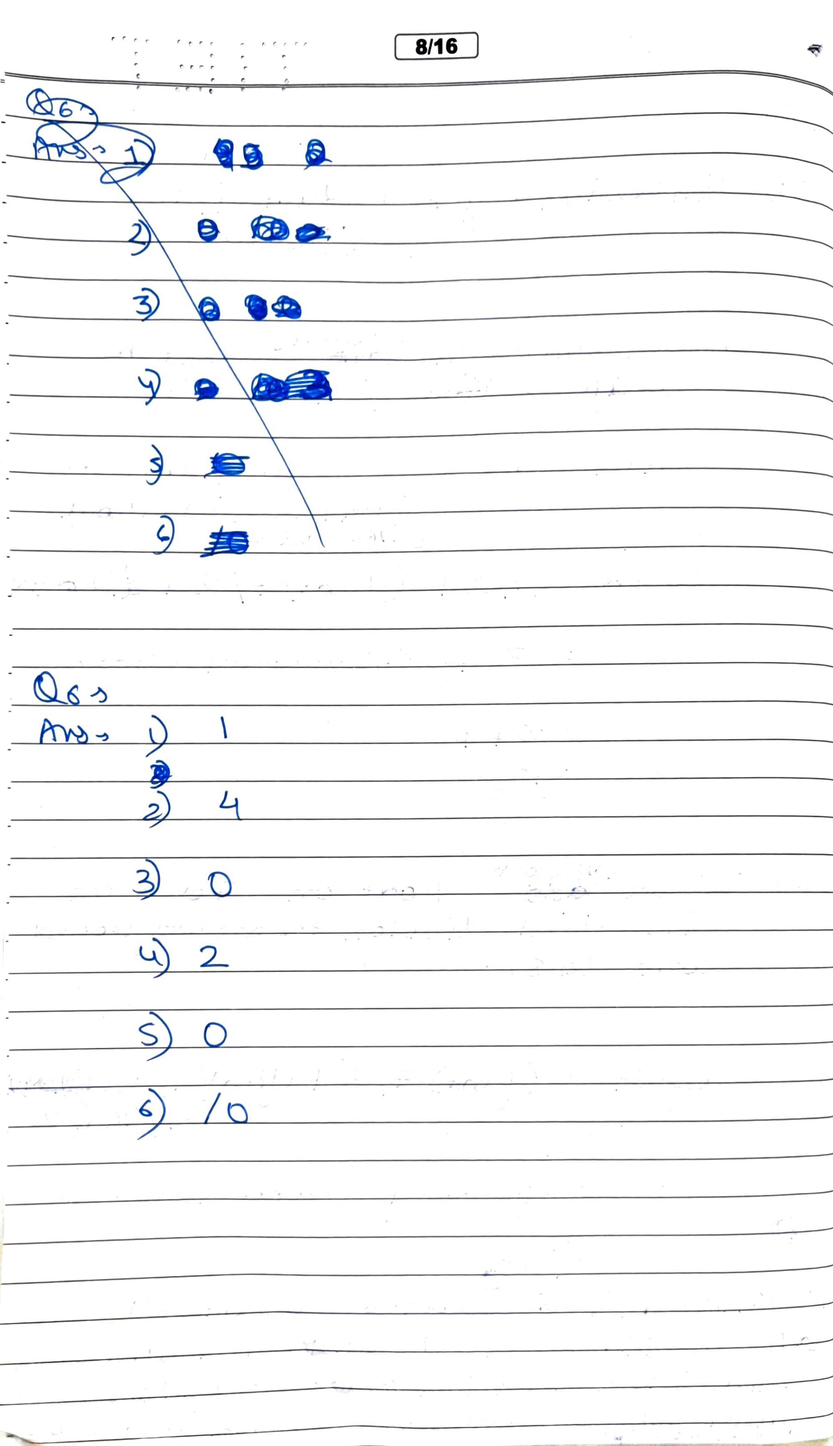cuttings: (16, 79, 340, 560), (147, 757, 177, 790)
